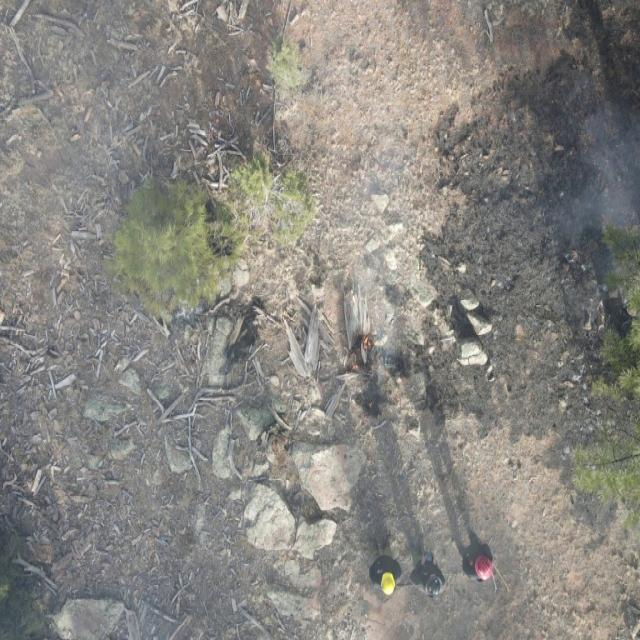fire: (347, 332, 374, 373), (364, 402, 374, 418)
smoke: (260, 0, 526, 640), (2, 1, 262, 640), (508, 109, 639, 247)
